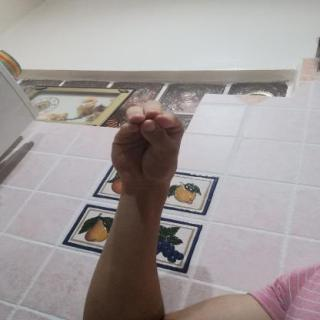HA: (99, 90, 193, 198)
